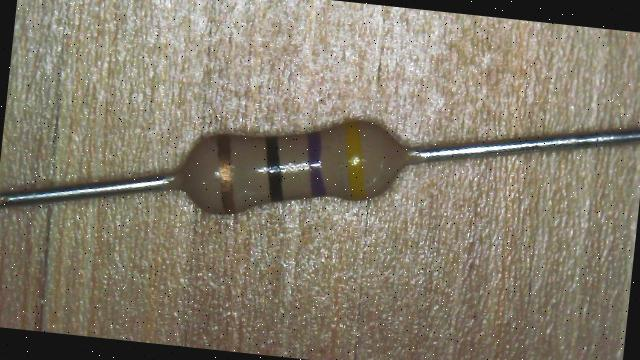black: (260, 136, 288, 202)
gold: (209, 134, 240, 212)
resistor: (162, 92, 420, 232)
violet: (301, 132, 332, 198)
yellow: (338, 122, 372, 200)
